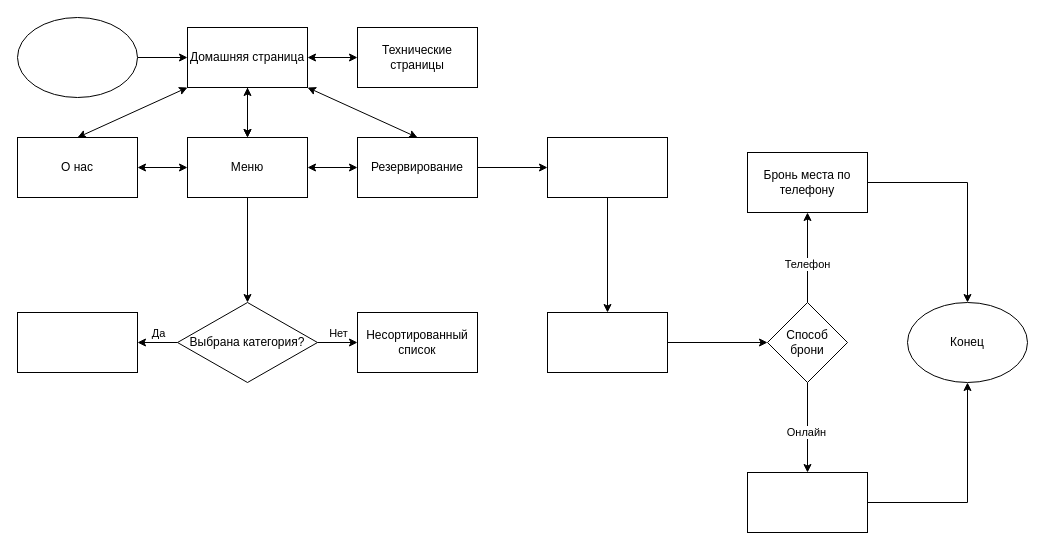
The diagram is 1045 pixels wide and 550 high, and some of its shapes have lost their labels. Each missing label, with the box of its shape:
Start: (16, 16, 138, 98)
Выбор ресторана: (546, 136, 668, 198)
Выбор столика: (546, 312, 668, 372)
Заполнение формы на сайте: (746, 472, 868, 532)
Сортированный список: (16, 312, 138, 372)
